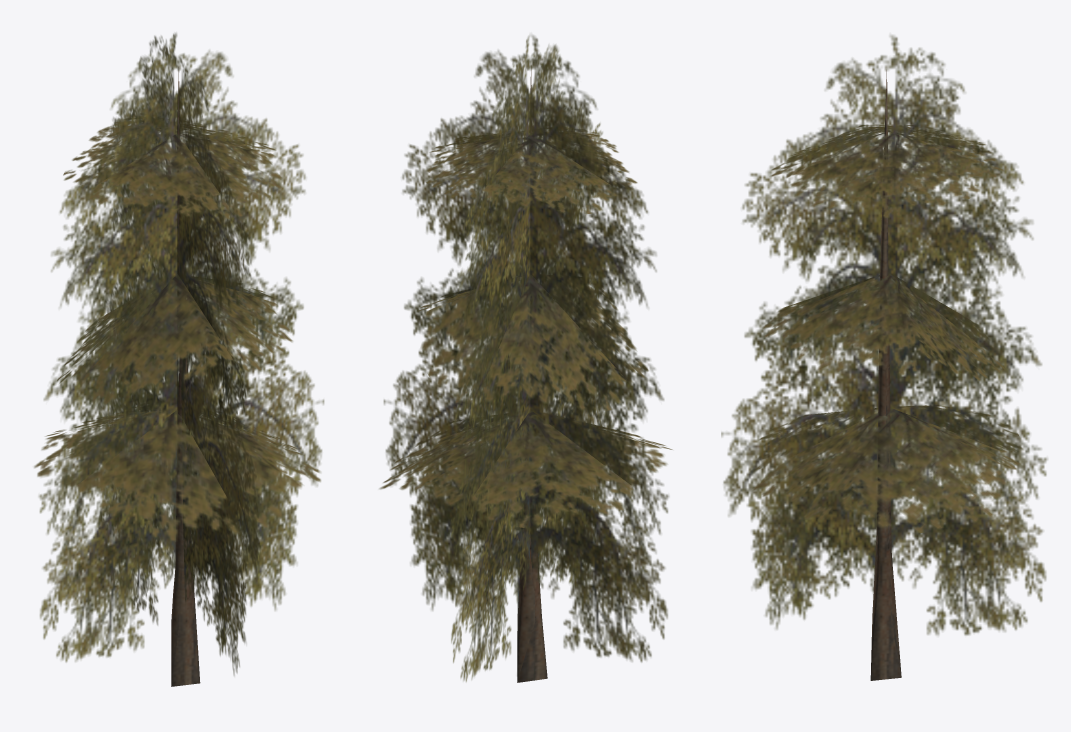
Rendered from forest_bg_tree_05.glb.
3 views of the same model, side by side, from view 1: azimuth 30°, elevation 25°; view 2: azimuth 150°, elevation 25°; view 3: azimuth 270°, elevation 25° (orthographic).
Parts seen in each view (by area): view 1: Background_Tree_Atlas.004_Background_Tree_Atlas_0; view 2: Background_Tree_Atlas.004_Background_Tree_Atlas_0; view 3: Background_Tree_Atlas.004_Background_Tree_Atlas_0.
Part boxes in pixels (<box>): Background_Tree_Atlas.004_Background_Tree_Atlas_0: <box>34,33,324,686</box>; Background_Tree_Atlas.004_Background_Tree_Atlas_0: <box>379,35,672,682</box>; Background_Tree_Atlas.004_Background_Tree_Atlas_0: <box>721,35,1047,680</box>.
Bounding box in the file's own units: 1.95 × 4.2 × 1.95.
Materials: 1 (1 with a texture image).
